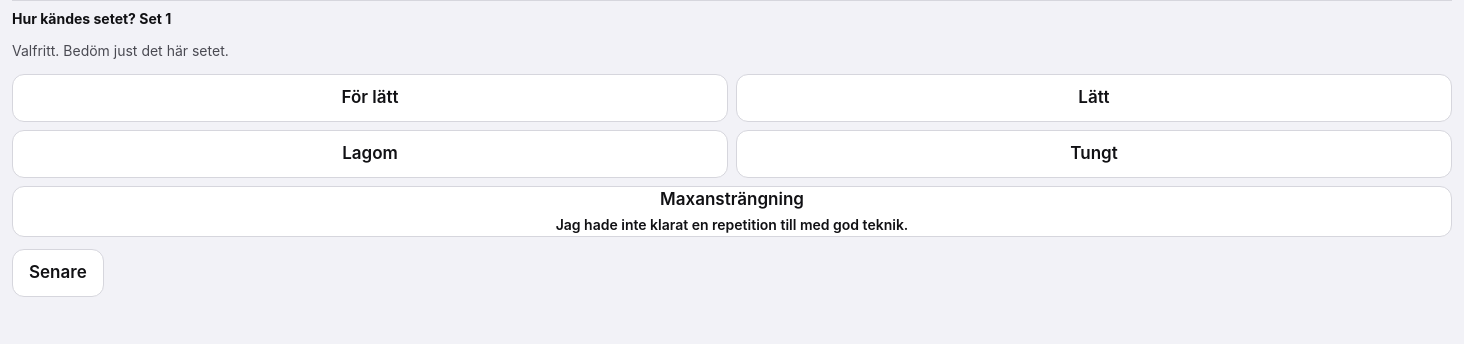
Scenario: five choices are unselected and optional; failed feedback does not claim the set was lost
Click the button "Maxansträngning".
click(732, 211)  # box [12,186,1452,236]
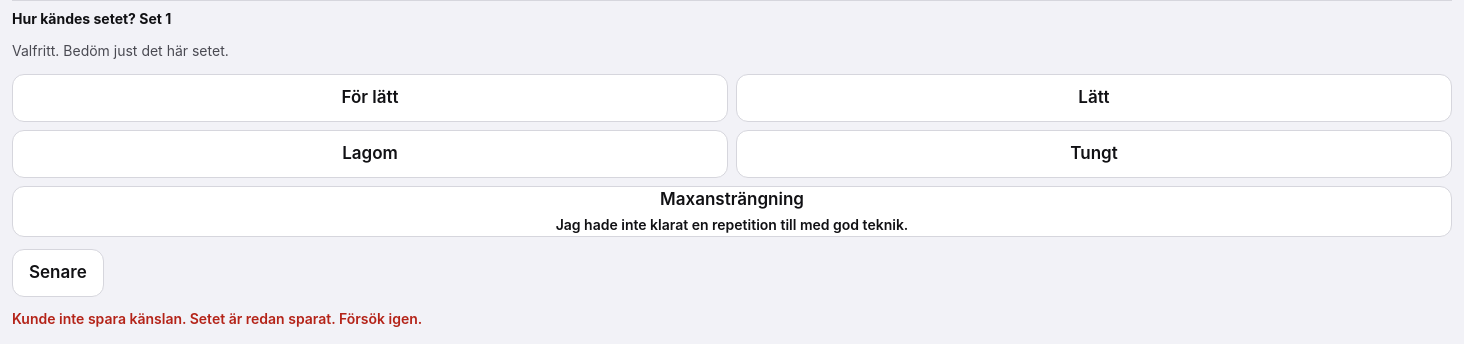
Check: the message shows "Setet är redan sparat", box [12,310,422,326]
Click the button "Maxansträngning".
click(732, 211)  # box [12,186,1452,236]
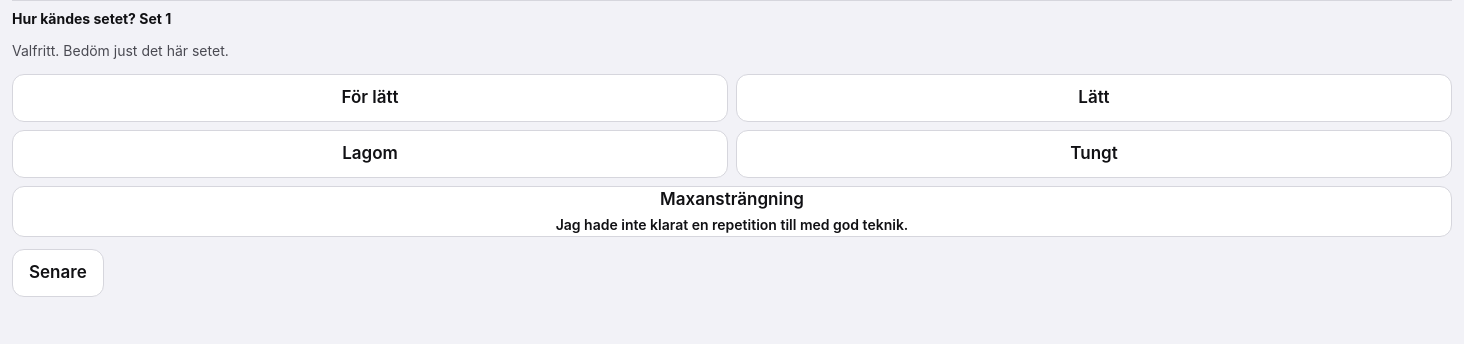
Click the button "Senare".
click(58, 272)  # box [12,248,104,296]
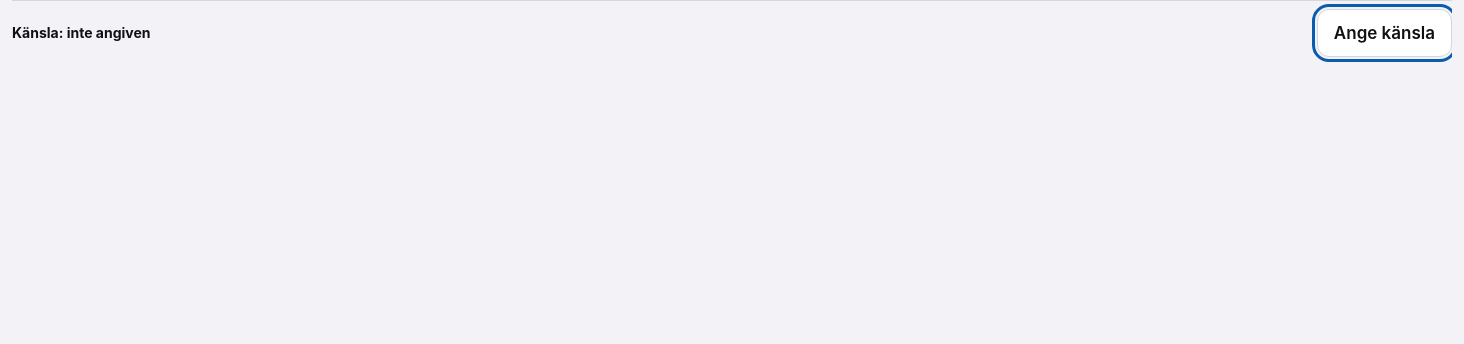
Check: the button "Tungt" is gone
